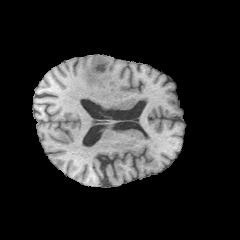glioma: (82, 56, 115, 90)
